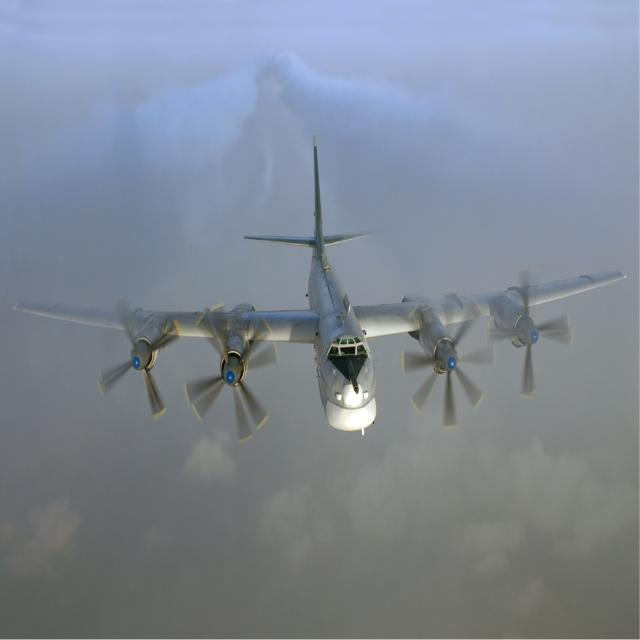MIL_Plane: (13, 130, 628, 445)
